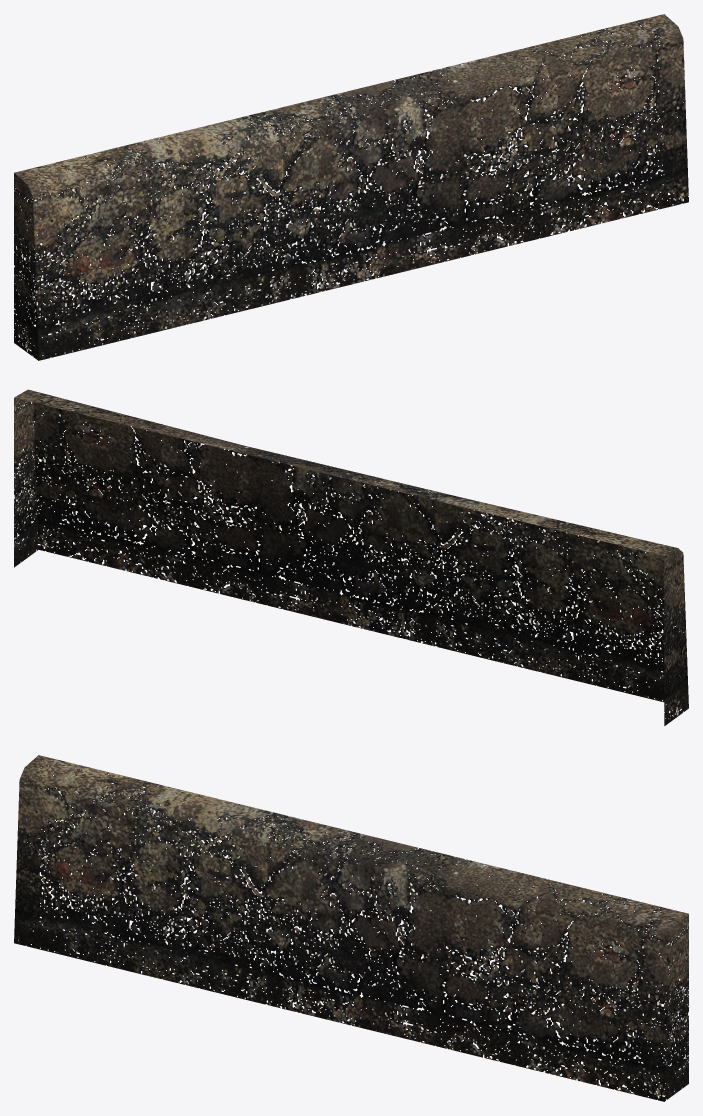
Rendered from factory_concrete.DAE.
The picture shows the model from 3 angles, top to bottom: view 1: azimuth 30°, elevation 25°; view 2: azimuth 150°, elevation 25°; view 3: azimuth 330°, elevation 25°; orthographic projection.
Visible parts, largest first — view 1: Box012; view 2: Box012; view 3: Box012.
Part boxes in pixels (box(x1,y1,x2,y2)): Box012: box(14, 14, 688, 360); Box012: box(14, 389, 688, 725); Box012: box(14, 755, 688, 1101).
Size of the model in its own units: 4 by 1 by 0.2625.
